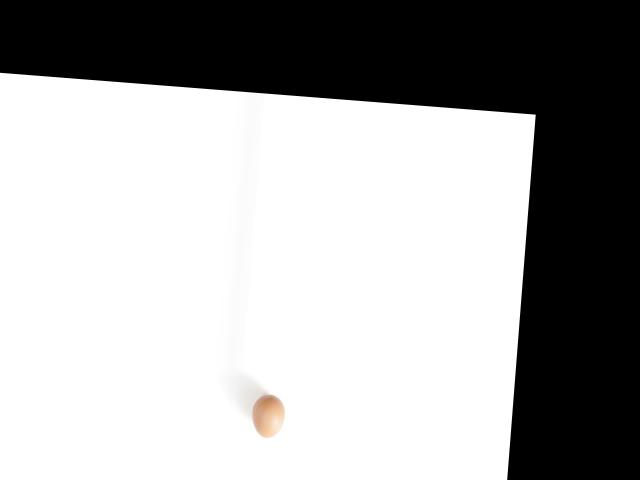egg: (251, 393, 286, 439)
